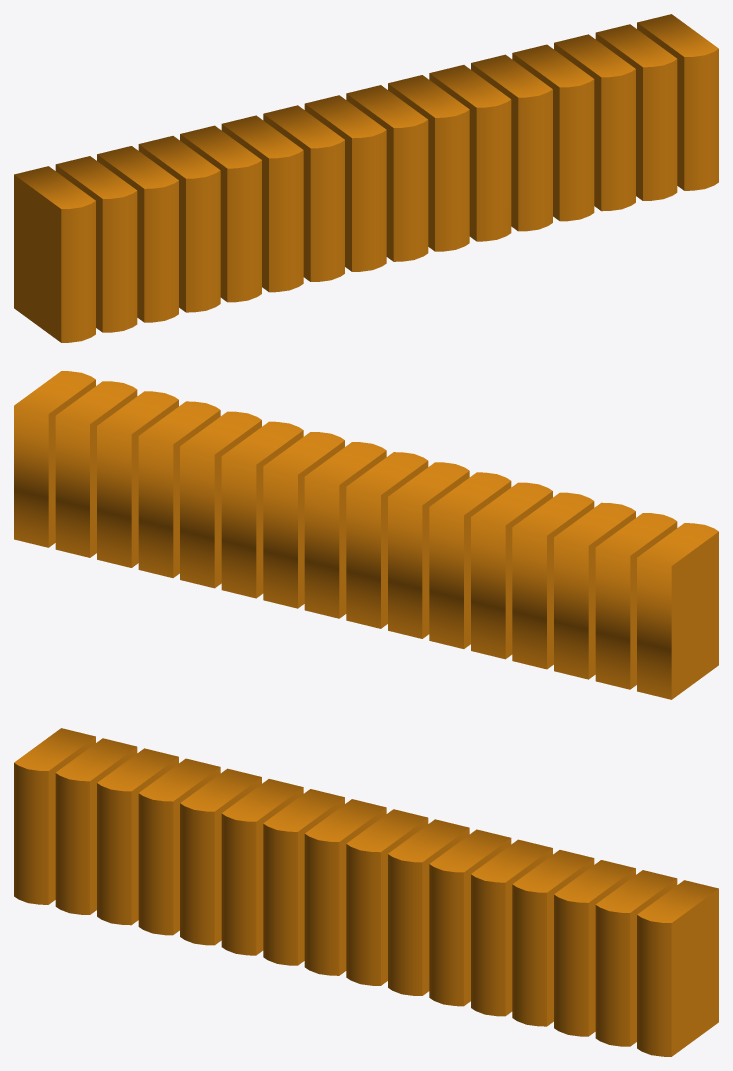
The model's file is Book-Row01.fbx.
The picture shows the model from 3 angles, top to bottom: view 1: azimuth 30°, elevation 25°; view 2: azimuth 150°, elevation 25°; view 3: azimuth 330°, elevation 25°; orthographic projection.
Visible parts, largest first — view 1: Book-Row-01_low.001; view 2: Book-Row-01_low.001; view 3: Book-Row-01_low.001.
Boxes of the visible parts, x1=… form: Book-Row-01_low.001: x1=14, y1=14, x2=718, y2=342; Book-Row-01_low.001: x1=14, y1=371, x2=718, y2=699; Book-Row-01_low.001: x1=14, y1=728, x2=718, y2=1056.
Size of the model in its own units: 188 by 25.01 by 36.48.
